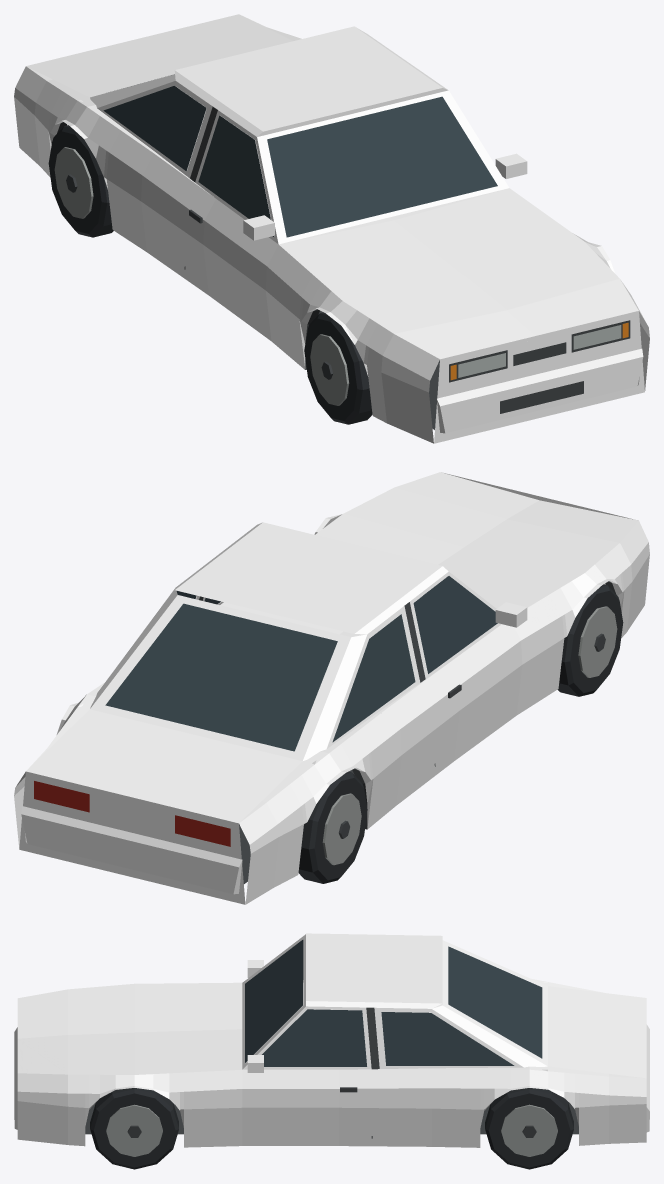
Rendered from kanaya_shijima_gt_97.glb.
3 views of the same model, one above another, from view 1: azimuth 30°, elevation 25°; view 2: azimuth 150°, elevation 25°; view 3: azimuth 270°, elevation 25° (orthographic). The views are drawn at different scales.
Parts seen in each view (by area): view 1: kanaya_shijima_gt_97; view 2: kanaya_shijima_gt_97; view 3: kanaya_shijima_gt_97.
Boxes of the visible parts, box(x1,y1,x2,y2) form: kanaya_shijima_gt_97: box(14, 14, 649, 443); kanaya_shijima_gt_97: box(14, 472, 649, 904); kanaya_shijima_gt_97: box(14, 933, 649, 1169).
Size of the model in its own units: 1.82 by 1.25 by 4.7.
Materials: 8 (1 with a texture image).
